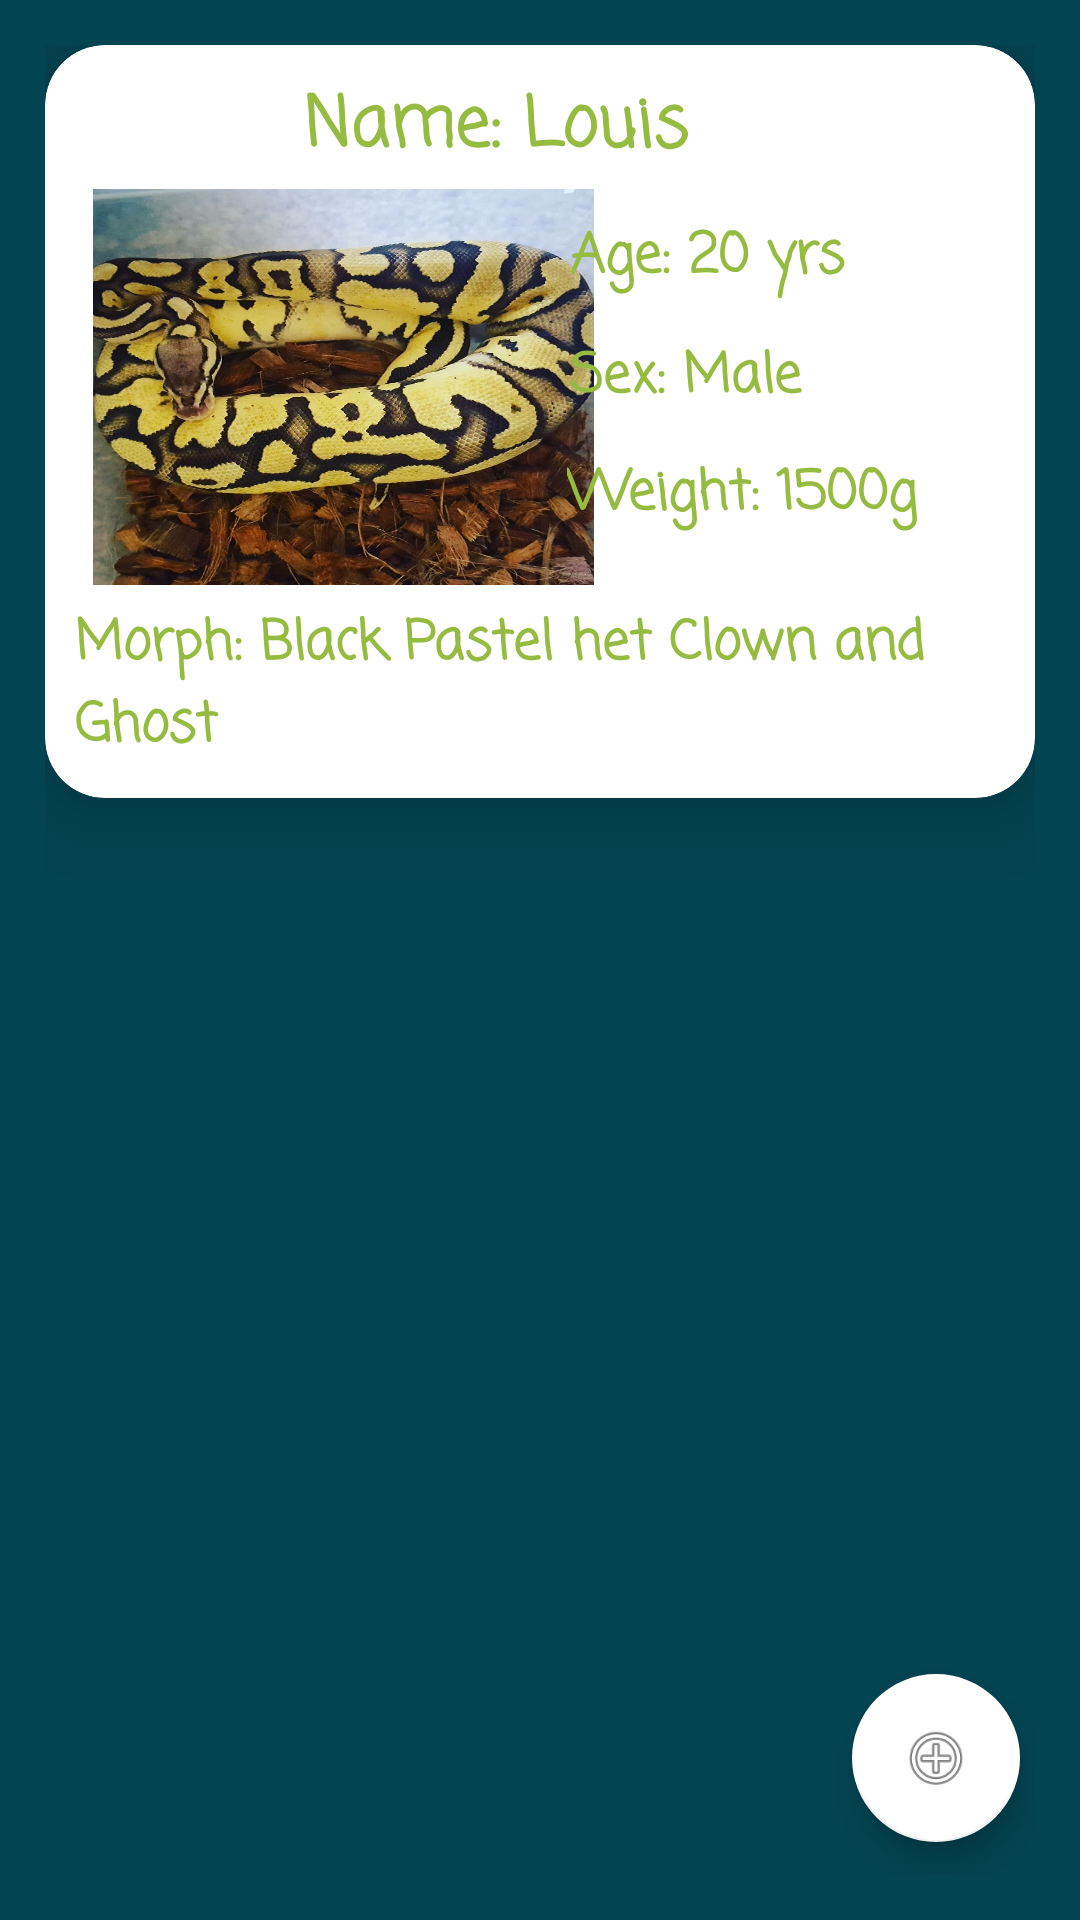

Icon bounding boxes for this 1080x1920 phone screenshot, format (x1, y1, x2, y2):
add: (852, 1674, 1020, 1842)
